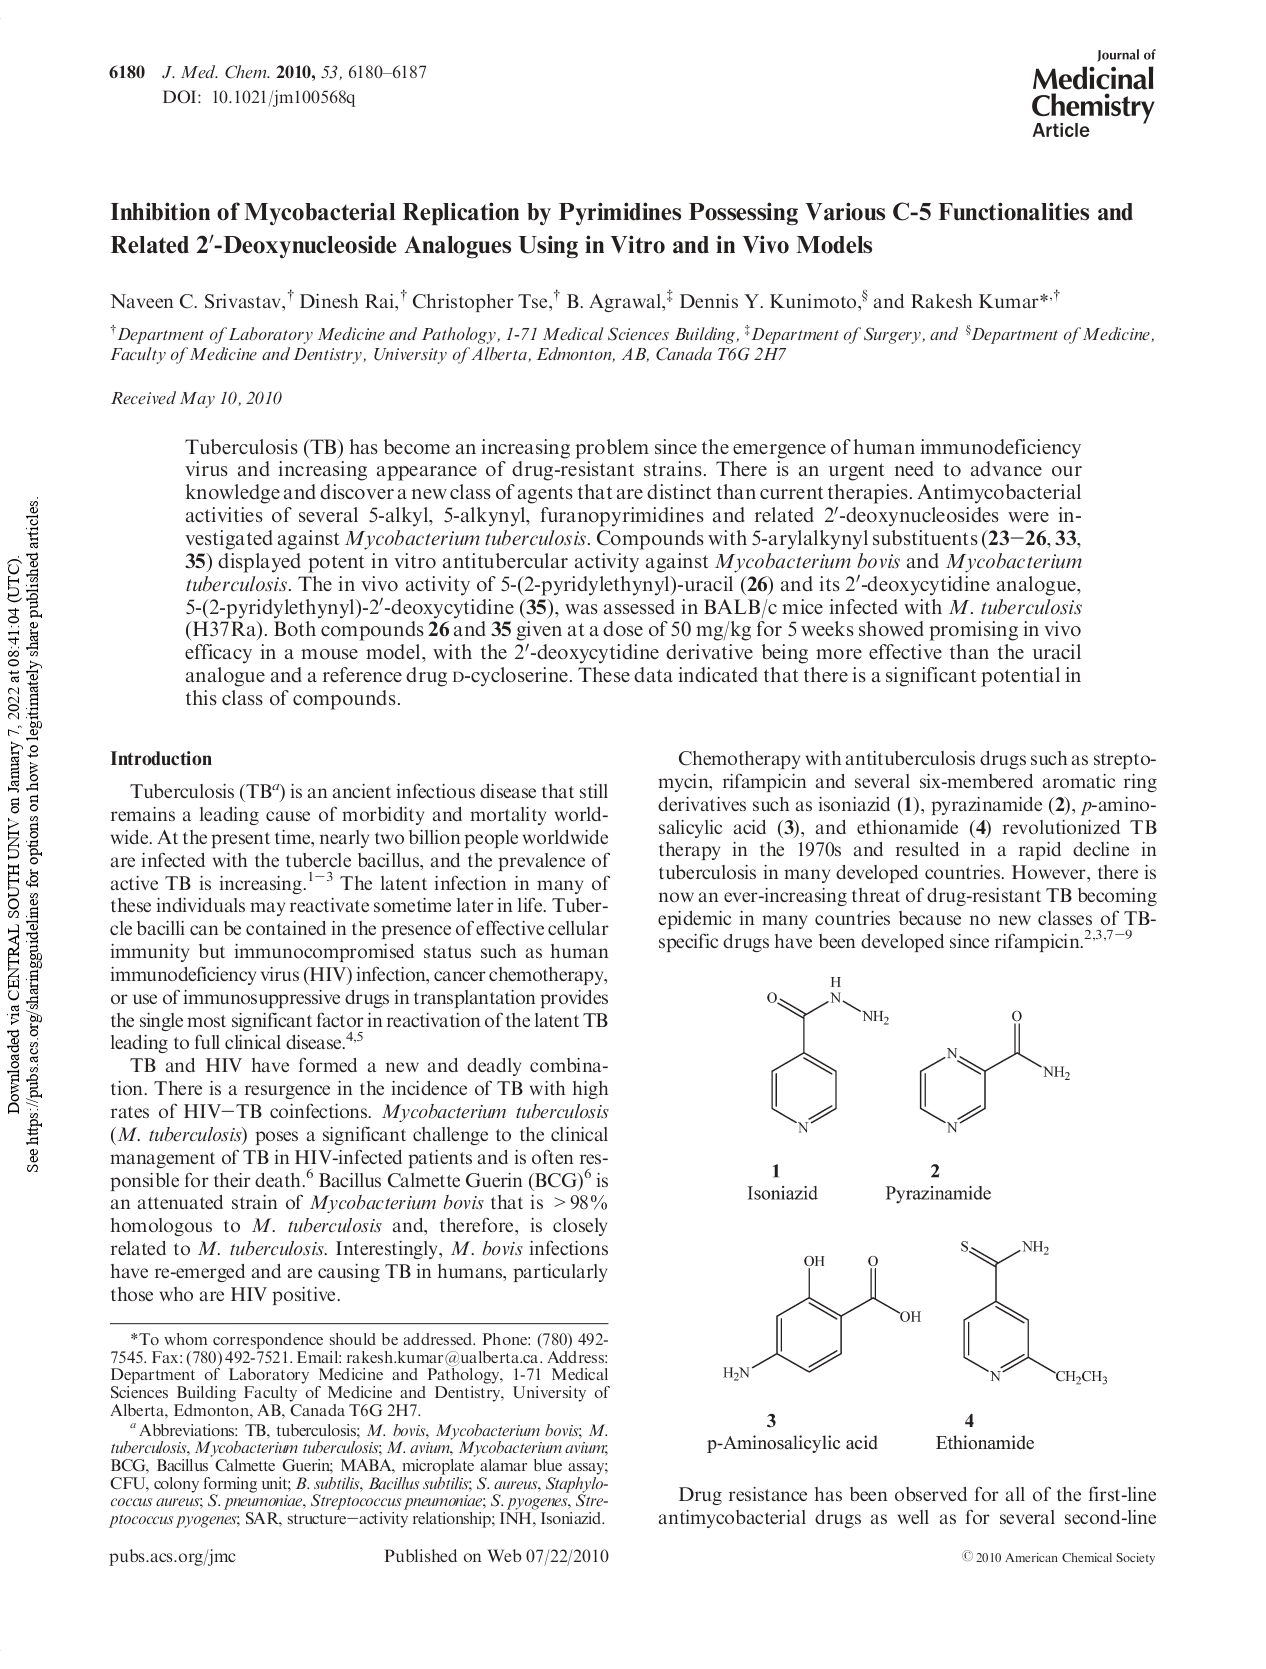exist_molecular: (721, 1251, 922, 1382), (955, 1235, 1110, 1386), (765, 972, 890, 1134), (918, 1009, 1073, 1134)
